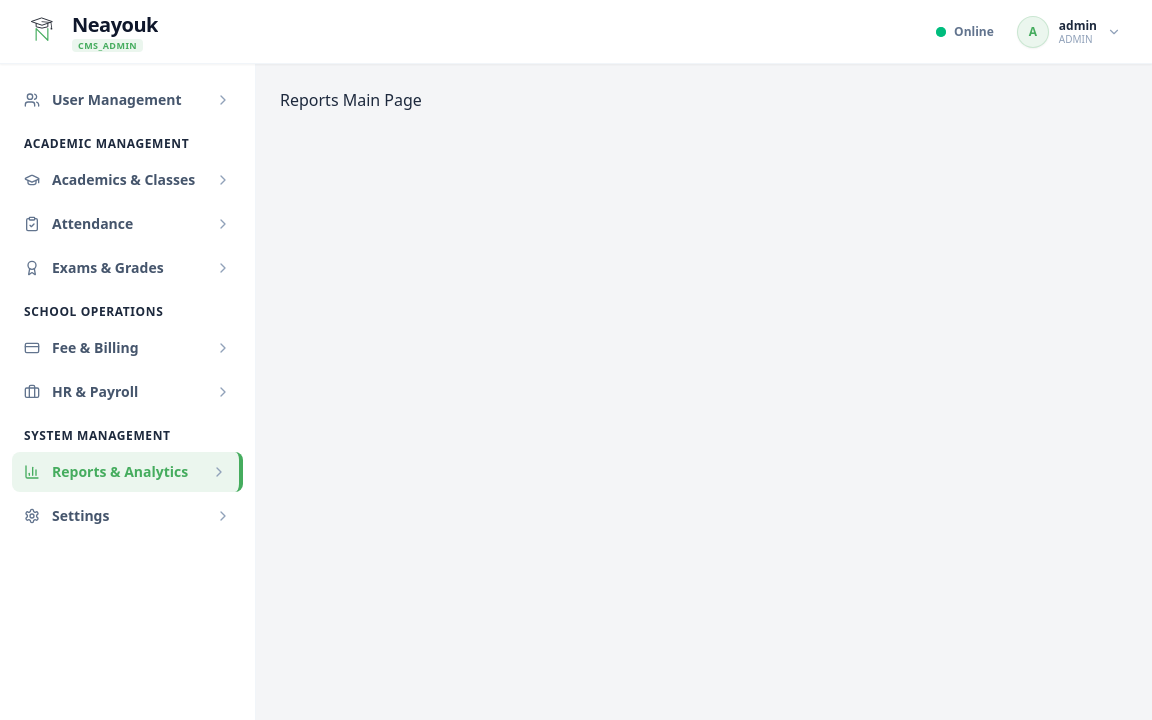
AdminLayout › navigates to sub-route when a sub-item is clicked
Click the button "User Management" at (128, 100), box [12,80,243,120]
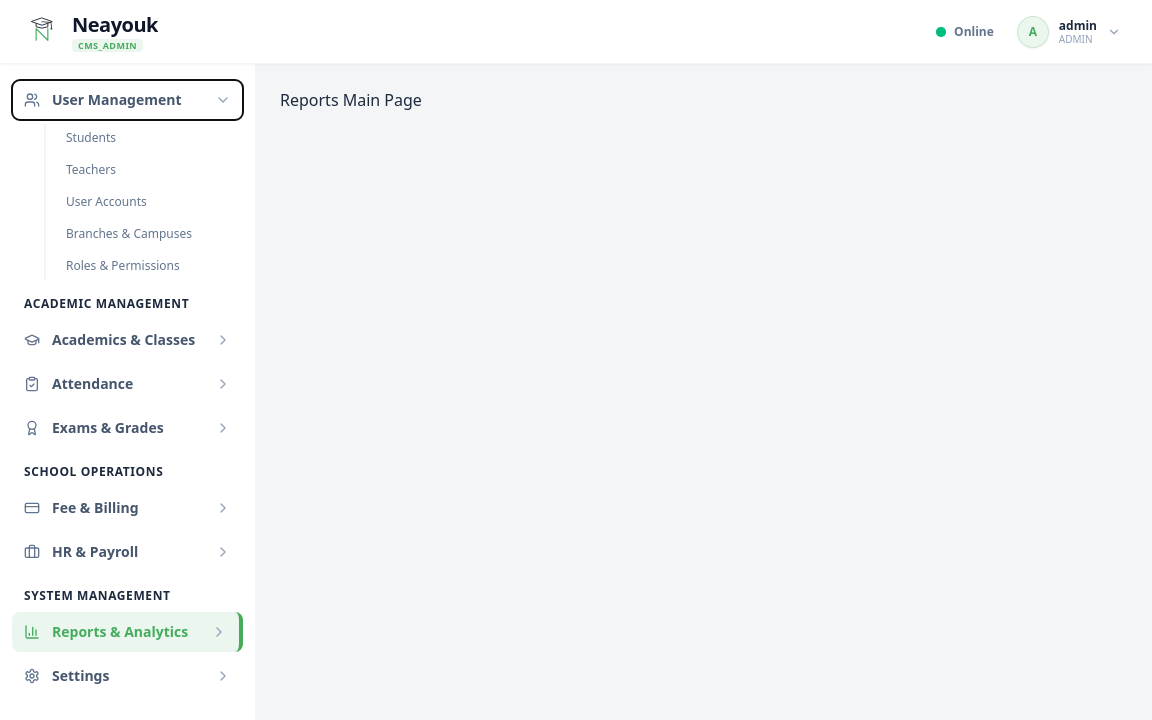
Click the button "Students" at (150, 138), box [58,124,243,152]
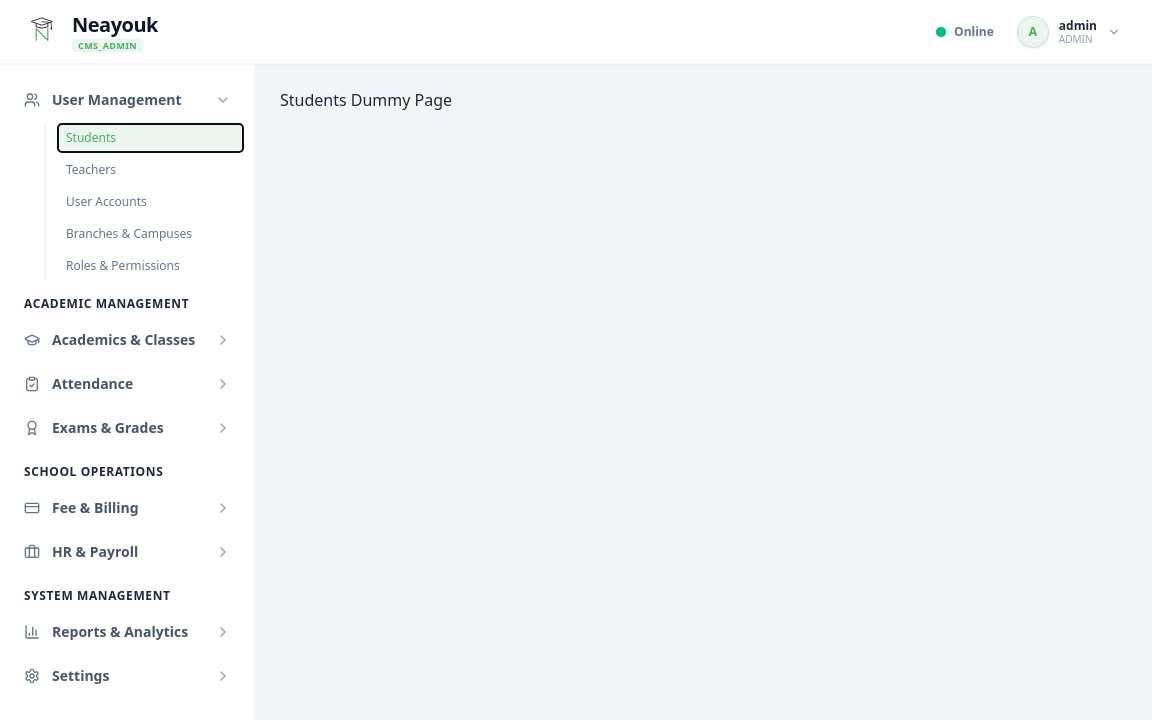
Now the text "Students Dummy Page" is shown, box [280,89,452,111]
